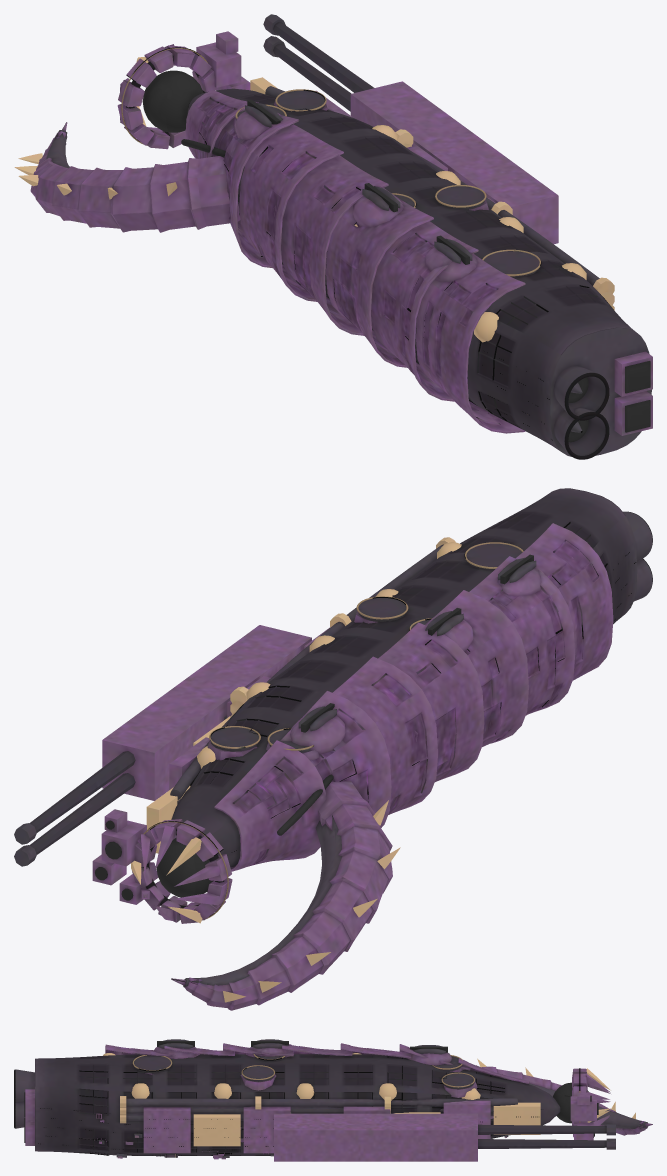
File: chimera_regent_hero.glb
The picture shows the model from 3 angles, top to bottom: view 1: azimuth 30°, elevation 25°; view 2: azimuth 150°, elevation 25°; view 3: azimuth 270°, elevation 25°; orthographic projection. The views are drawn at different scales.
Parts seen in each view (by area): view 1: HullBaked; view 2: HullBaked; view 3: HullBaked.
Boxes of the visible parts, x1=… form: HullBaked: x1=14, y1=14, x2=652, y2=459; HullBaked: x1=14, y1=488, x2=652, y2=1010; HullBaked: x1=14, y1=1039, x2=652, y2=1161.
Size of the model in its own units: 398 by 212 by 1087.
Materials: 1 (1 with a texture image).
